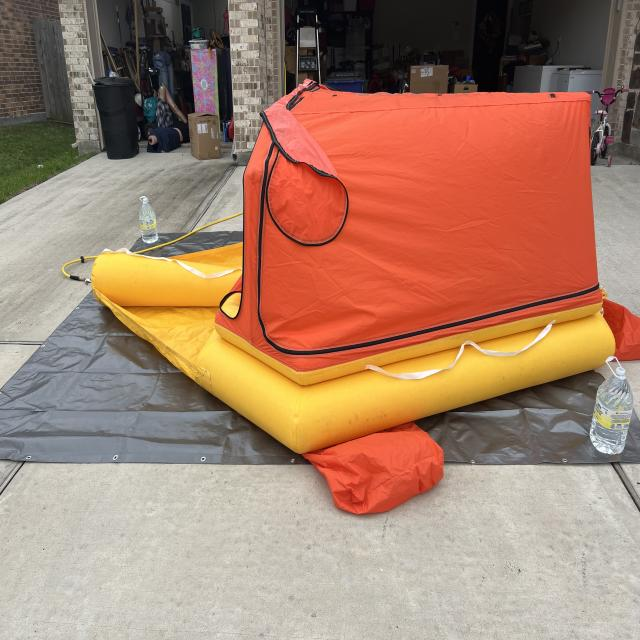Multi-person_life_raft: (90, 78, 640, 518)
